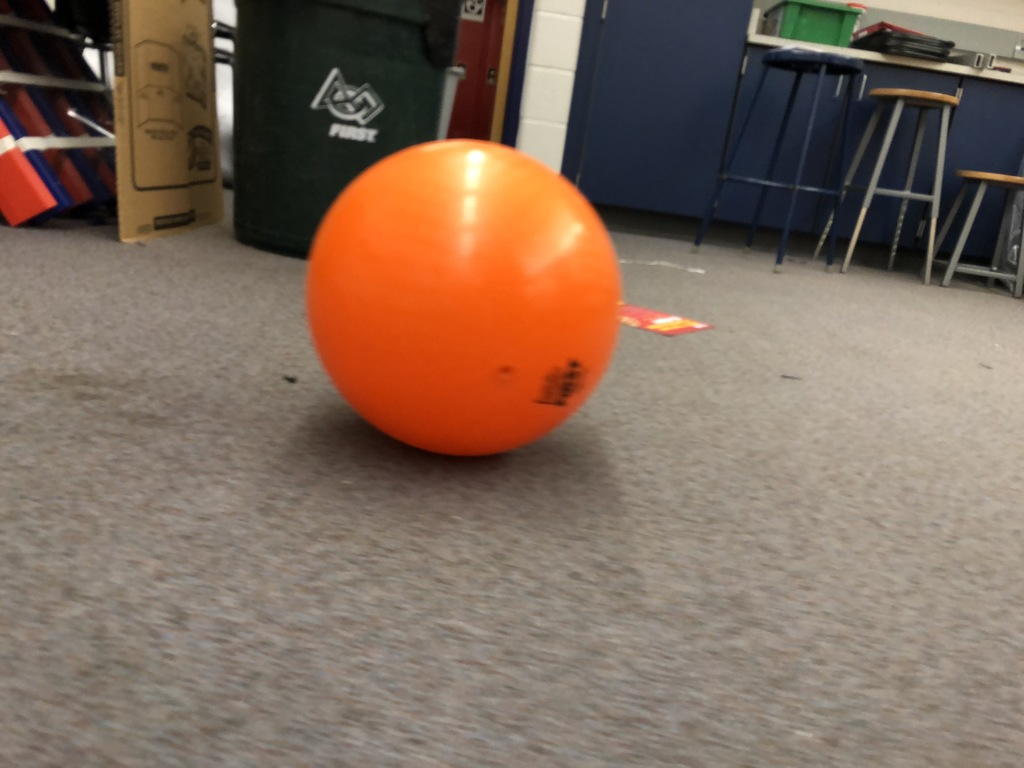cargo: (302, 128, 638, 470)
